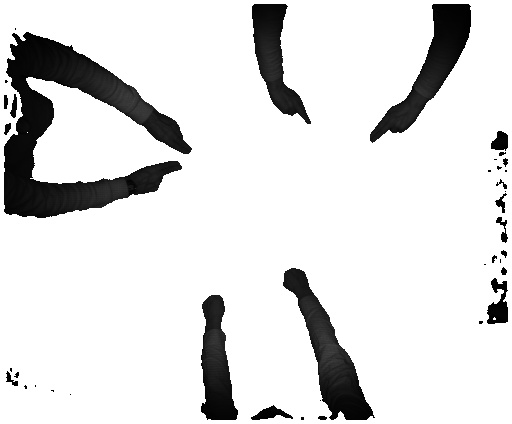fist: (280, 264, 317, 296), (200, 288, 231, 322)
hand: (368, 98, 420, 143), (129, 160, 183, 199), (148, 110, 191, 158), (267, 85, 311, 127)
